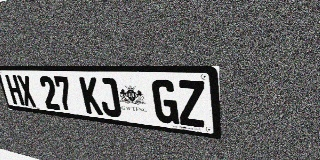2: (38, 76, 60, 110)
7: (52, 76, 75, 112)
G: (151, 79, 179, 125)
H: (5, 75, 25, 106)
J: (97, 78, 122, 118)
K: (79, 77, 103, 115)
X: (16, 75, 37, 107)
Z: (177, 80, 206, 128)
